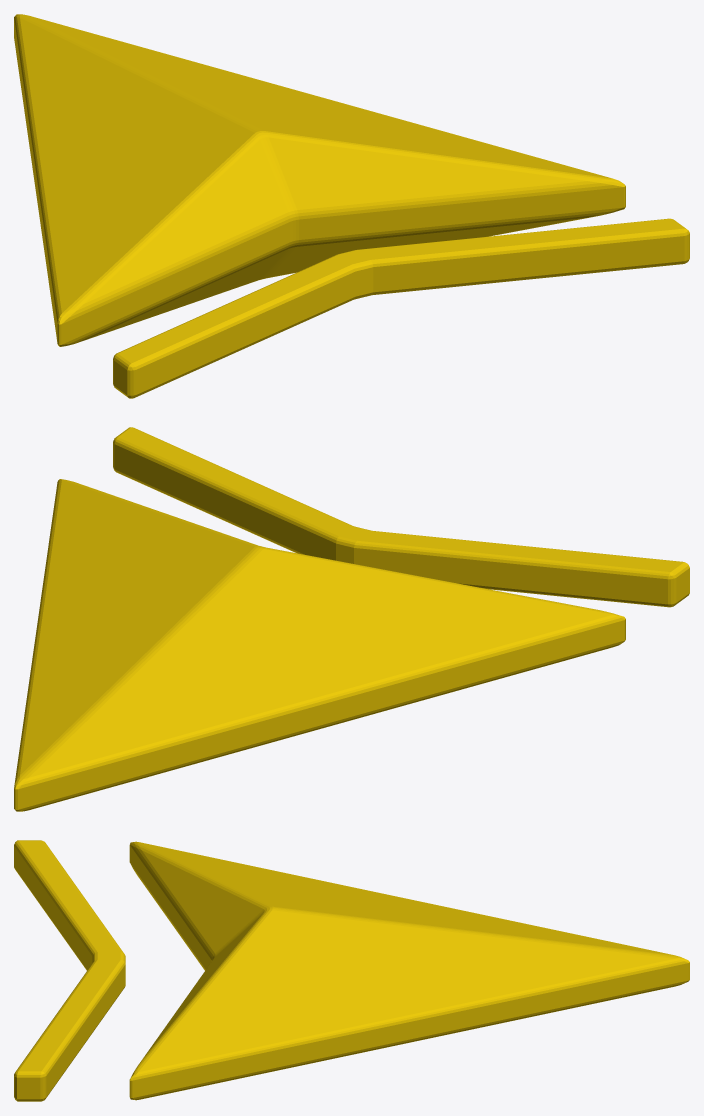
File: Arrow.fbx
3 views of the same model, one above another, from view 1: azimuth 30°, elevation 25°; view 2: azimuth 150°, elevation 25°; view 3: azimuth 270°, elevation 25° (orthographic). The views are drawn at different scales.
Parts seen in each view (by area): view 1: Arrow; view 2: Arrow; view 3: Arrow.
Part boxes in pixels (x1=…): Arrow: x1=14, y1=14, x2=689, y2=398; Arrow: x1=14, y1=427, x2=689, y2=811; Arrow: x1=14, y1=840, x2=689, y2=1101.
Bounding box in the file's own units: 99.31 × 24.57 × 120.
